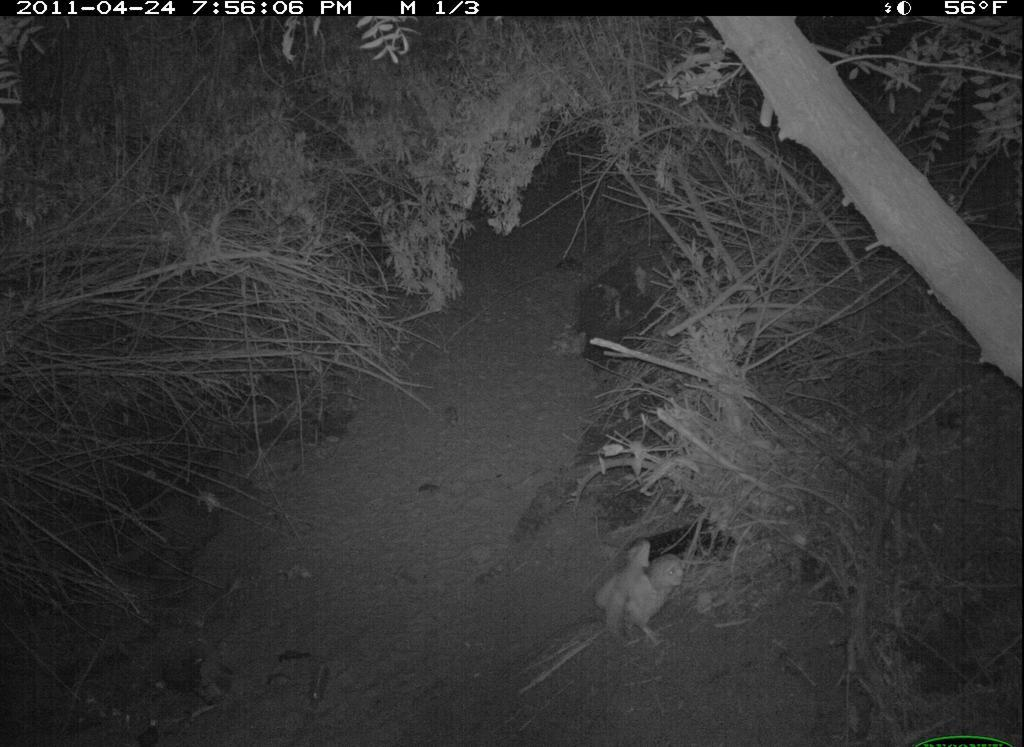bird: (592, 541, 701, 648)
